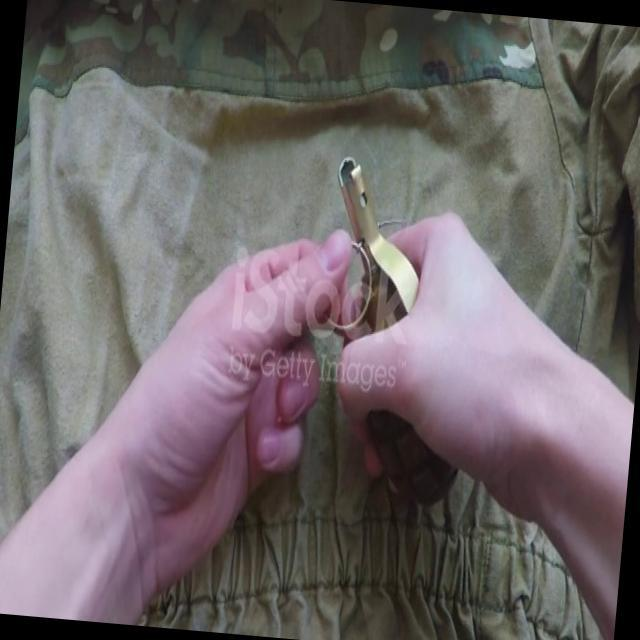grenade: (314, 154, 486, 508)
